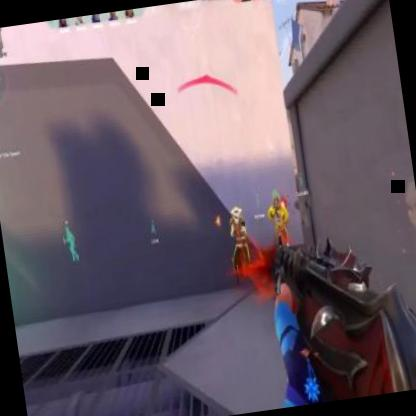enemy: (264, 187, 298, 283), (222, 204, 258, 288)
enemy_head: (270, 187, 280, 208), (229, 205, 243, 219)
